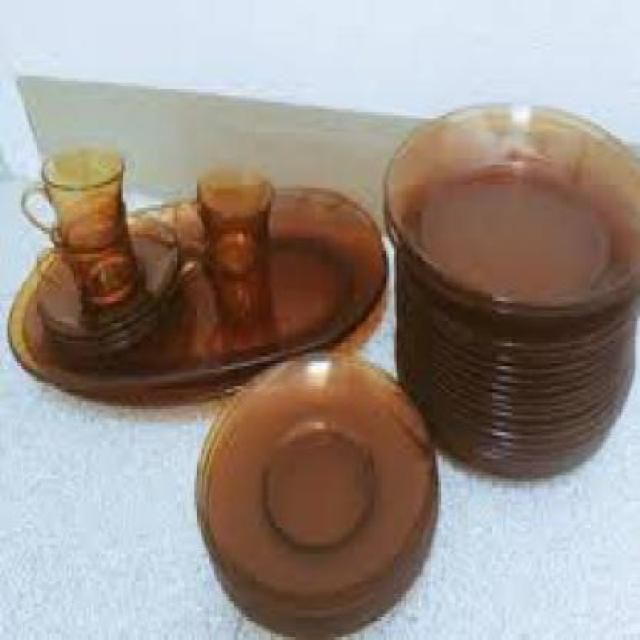kaca: (3, 185, 386, 406), (195, 349, 437, 637), (380, 98, 638, 314), (397, 251, 632, 478), (36, 215, 176, 348), (175, 172, 274, 285), (20, 146, 126, 242), (36, 218, 142, 300)
